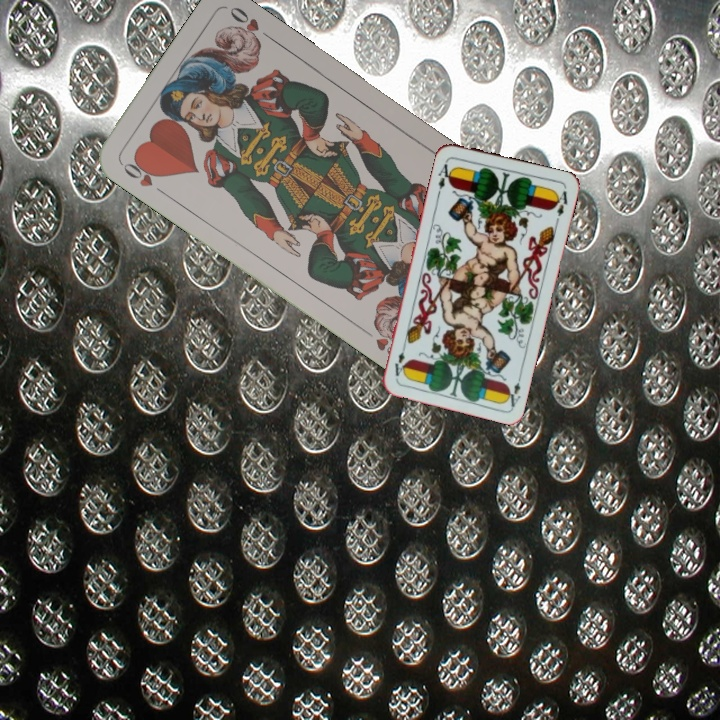EA: (434, 157, 456, 197), (502, 369, 524, 409)
HO: (117, 154, 169, 198)
